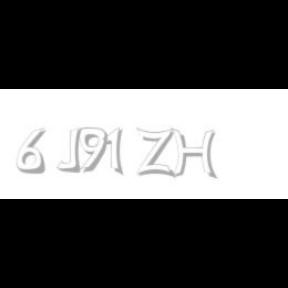1: (102, 128, 124, 176)
6: (16, 128, 46, 176)
9: (79, 128, 108, 172)
H: (171, 128, 217, 180)
J: (57, 128, 82, 172)
Z: (136, 128, 174, 178)
